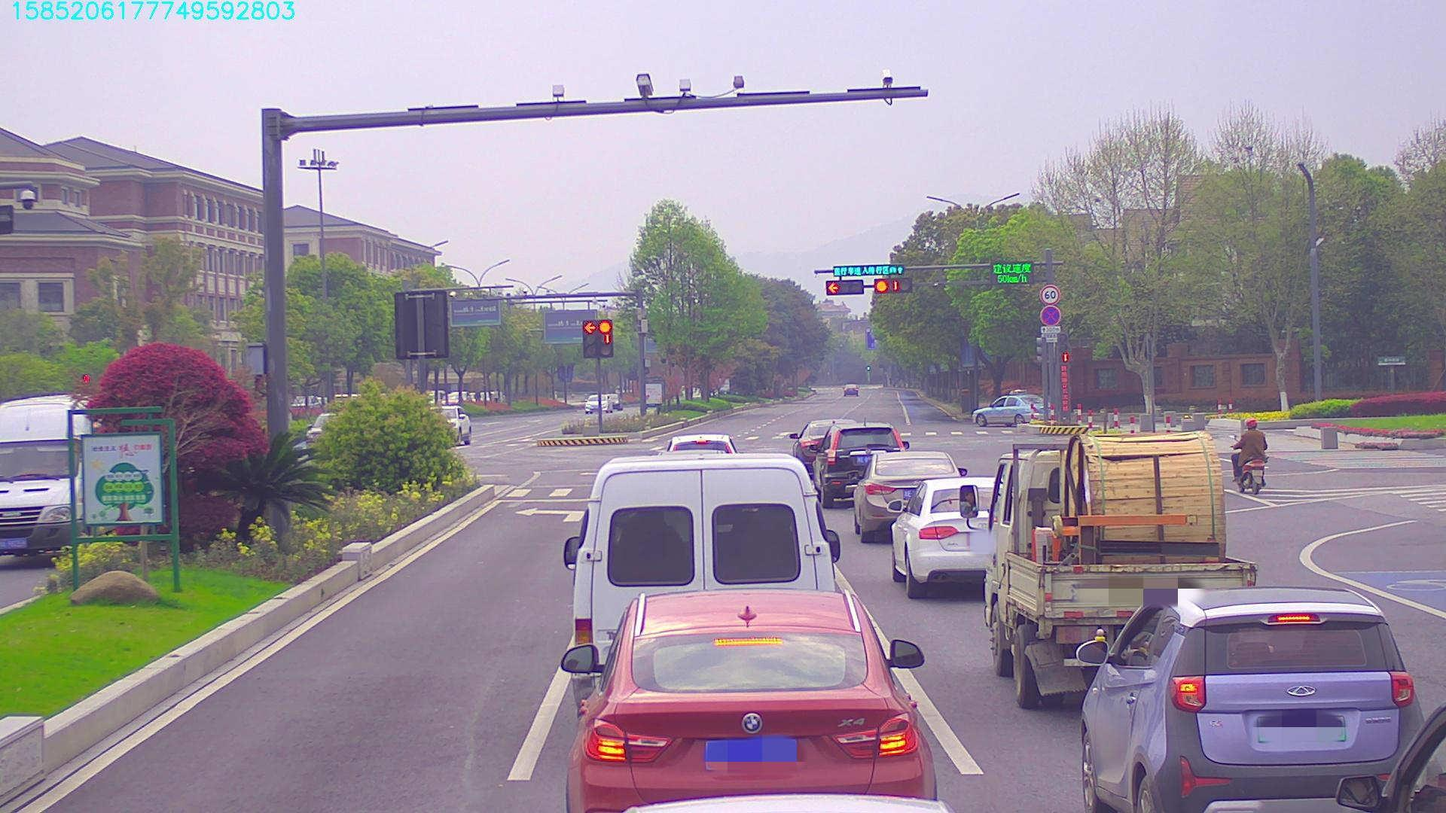red: (825, 278, 868, 297), (877, 282, 917, 290)
wait_on: (833, 261, 908, 273)
